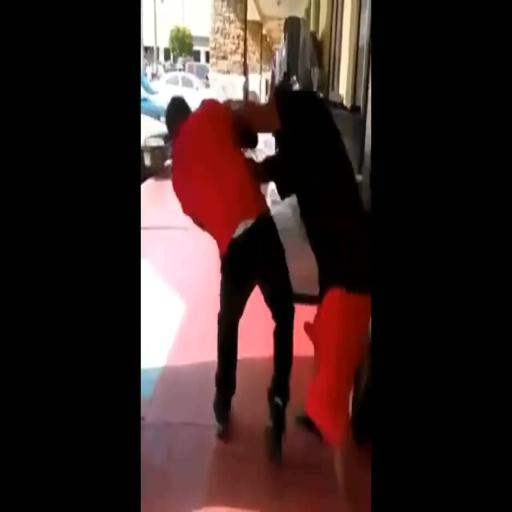violencia: (155, 66, 374, 486)
